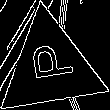P_W: (24, 45, 76, 90)
